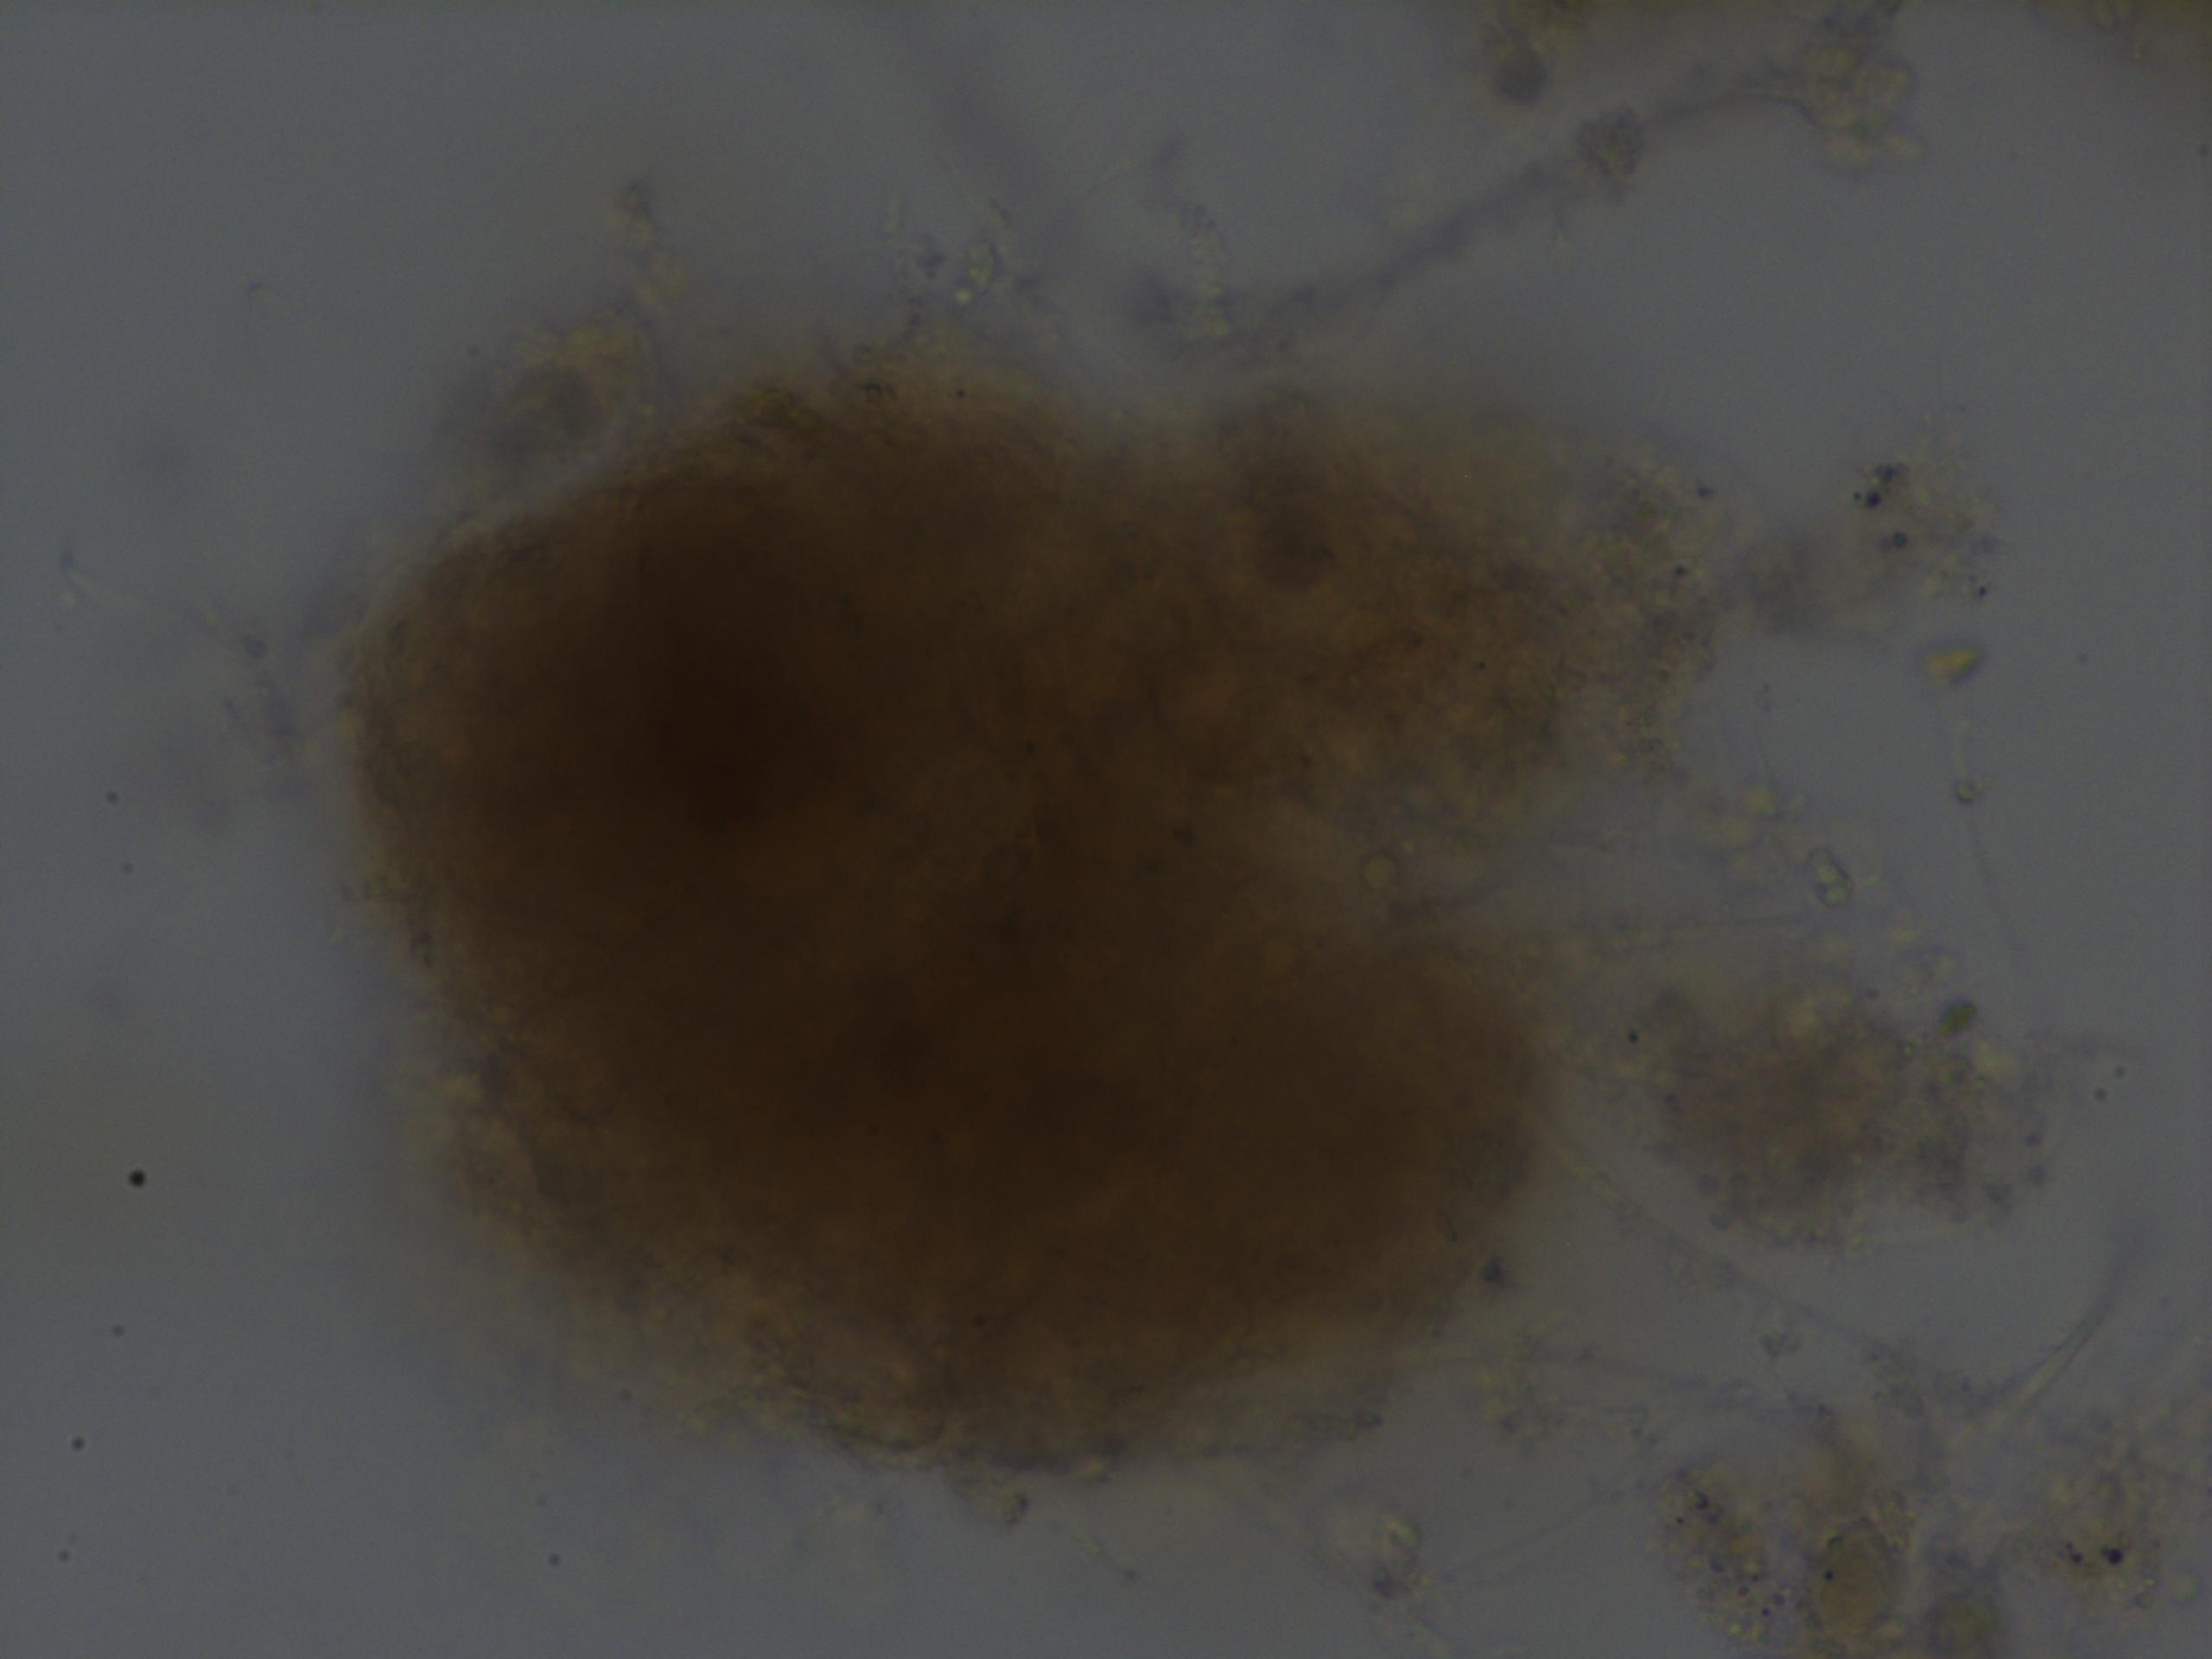filament: (1527, 1140, 2212, 1659), (1235, 0, 1958, 357)
spherical_floc: (327, 349, 1611, 1488)
